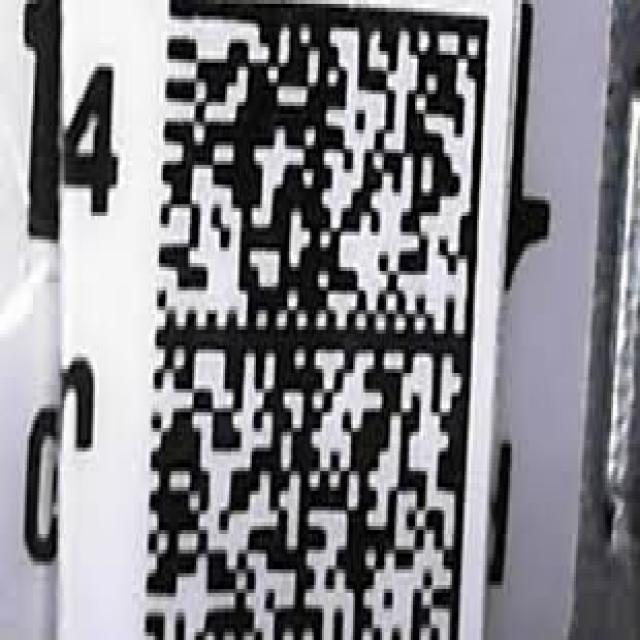datamatrix: (134, 4, 496, 640)
